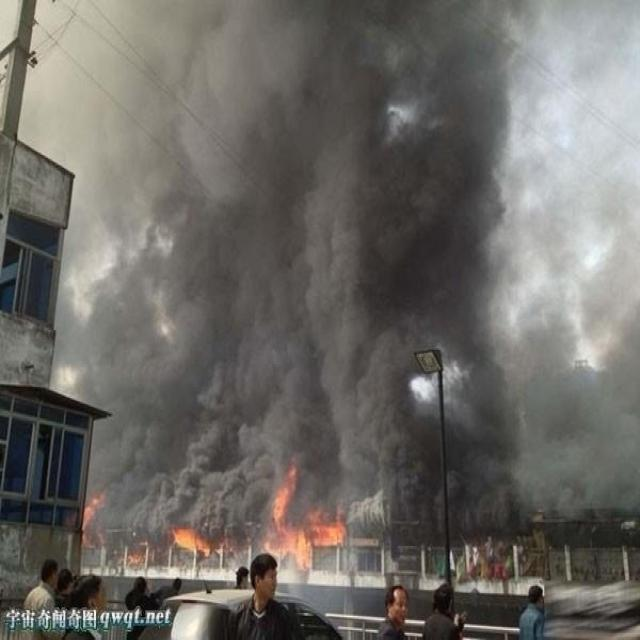Fire: (262, 465, 349, 572), (170, 526, 212, 558), (81, 496, 100, 549)
Smoke: (19, 1, 640, 457), (358, 461, 528, 545), (106, 461, 266, 528)
